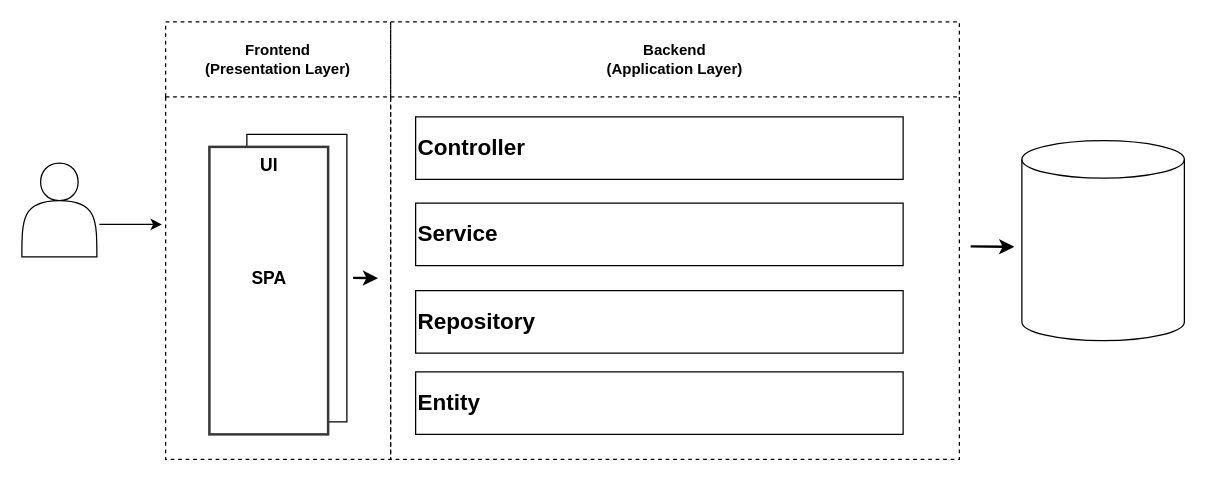
Image size: 1206x481. Some labels were removed from this diagram. Each missing label, with the centre of its shape:
Client: point (59, 209)
RDBMS (Data Layer): point (1102, 240)
